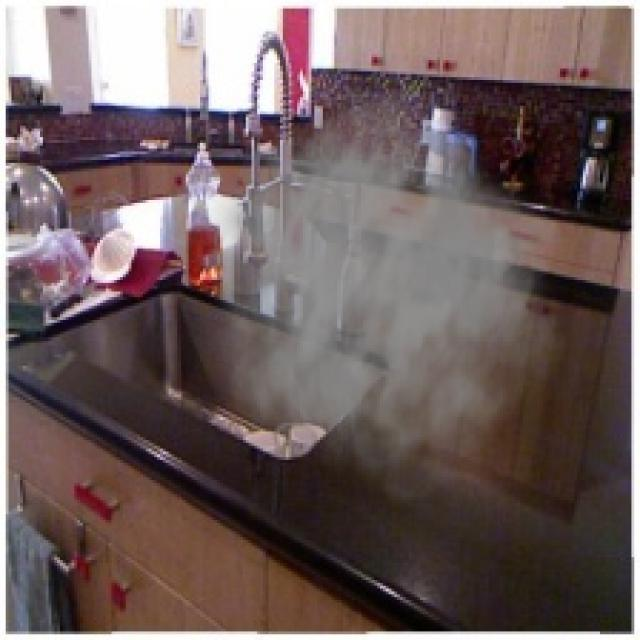Smoke: (200, 91, 574, 508)
